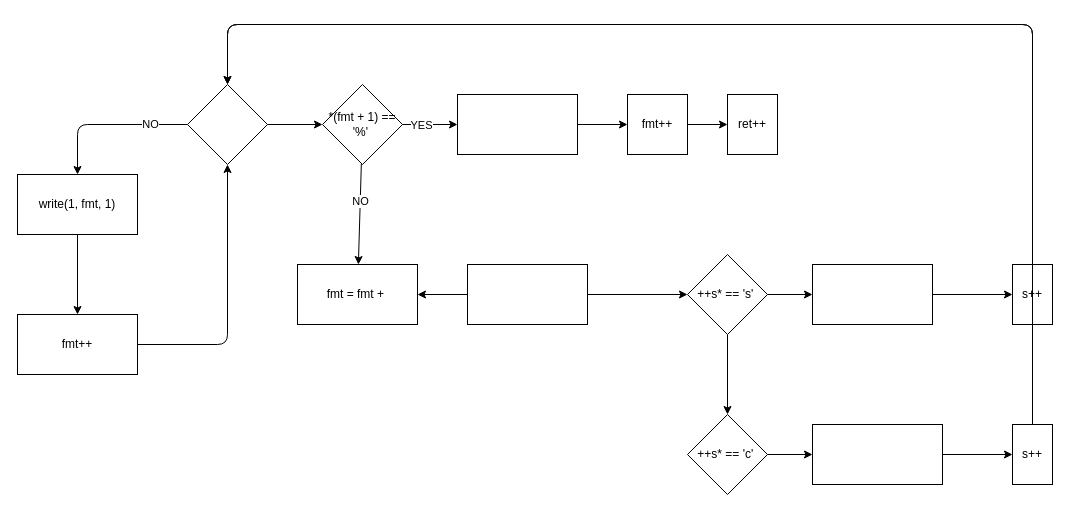
The diagram is 1070 pixels wide and 512 high, and some of its shapes have lost their labels. The centre of each missing label's shape, as x and y in pixels:
"fmt* == '%'" goes at (227,124).
"ft_putchar_fd( va_arg( arg_list, char), 1)" goes at (877,454).
"ft_putstr( va_arg( arg_list, char *), 1)" goes at (872,294).
"to_next_printable( fmt, va_arg)" goes at (527,294).
"write(1, fmt + 1, 1)" goes at (517,124).
